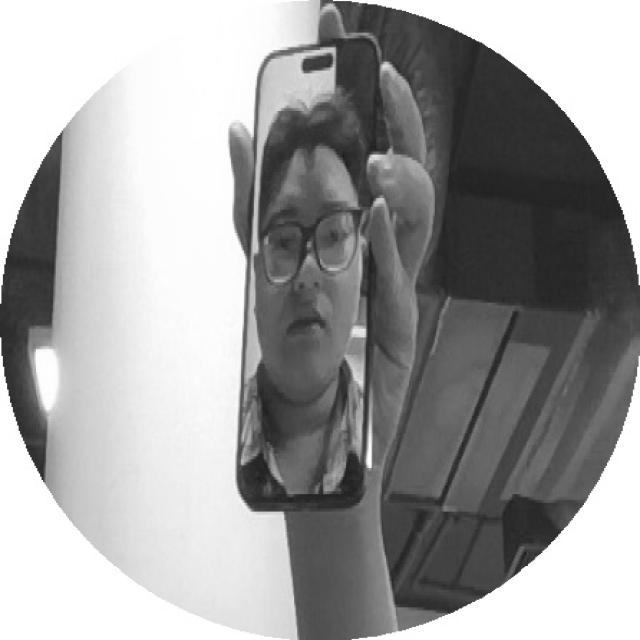fake: (225, 34, 425, 544), (226, 27, 387, 518)
